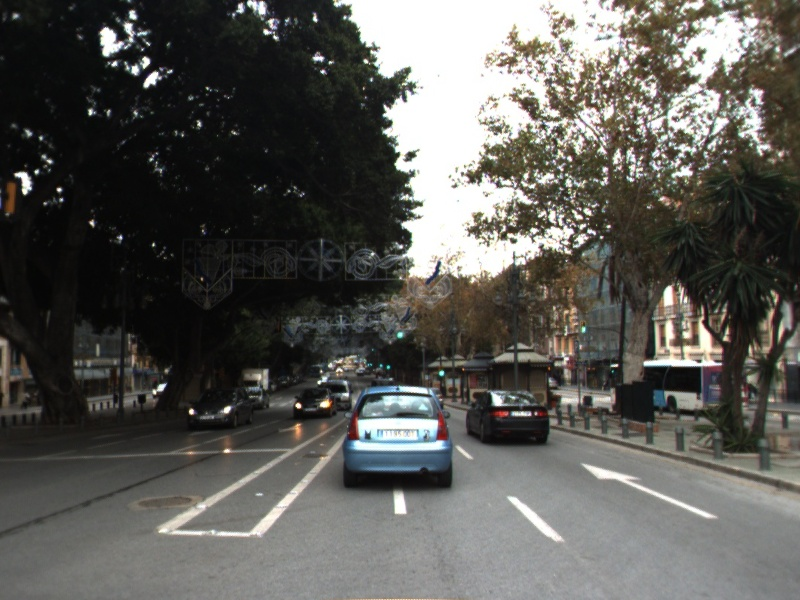STRAIGHT: (579, 462, 719, 520)
